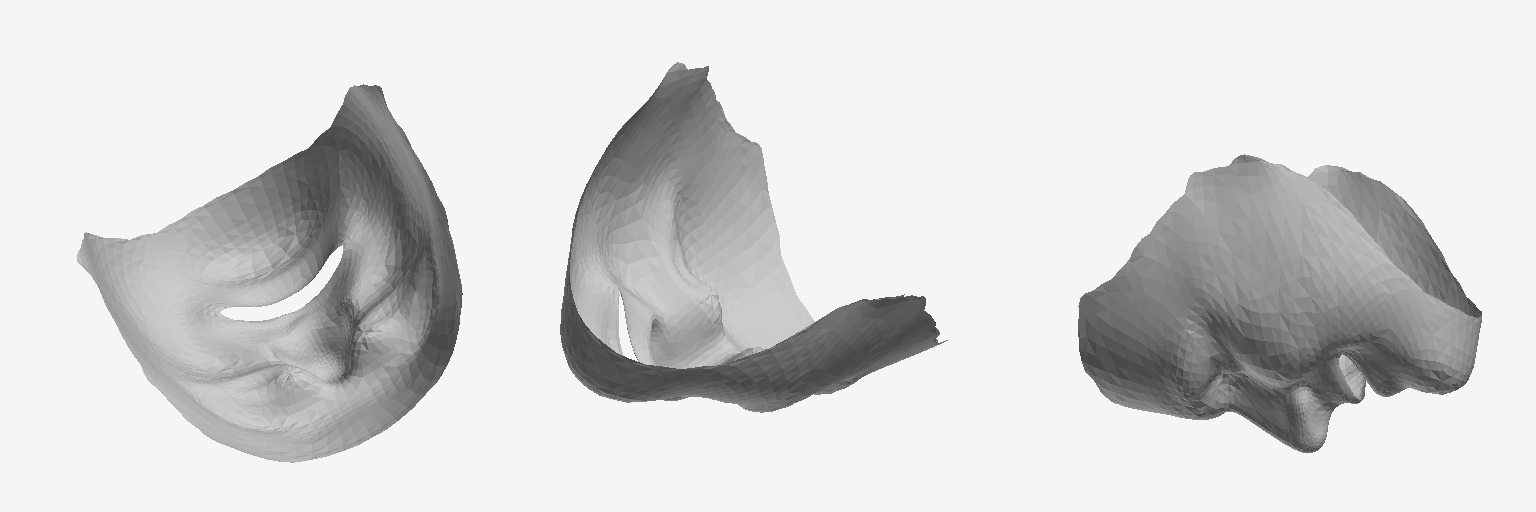
The model's file is face_gab_sfm106.obj.
3 views of the same model, side by side, from view 1: azimuth 30°, elevation 25°; view 2: azimuth 150°, elevation 25°; view 3: azimuth 270°, elevation 25° (orthographic).
Size of the model in its own units: 169 by 160 by 190.